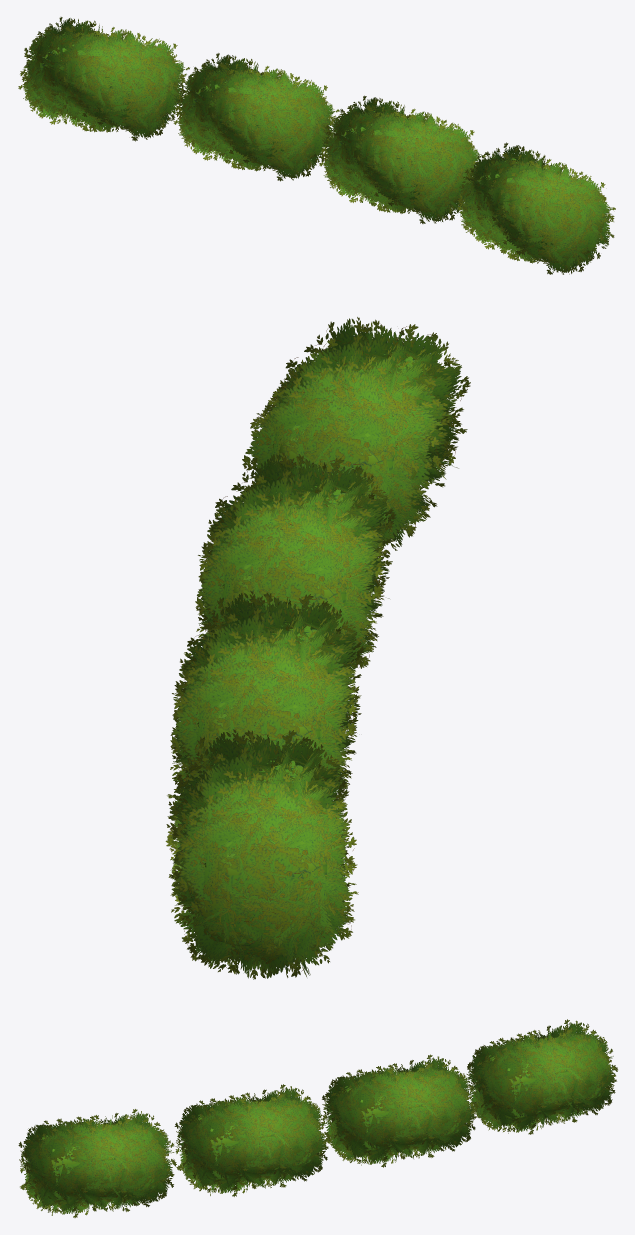
The model's file is SM_Bush06_Splines_20.fbx.
3 renders of one model, top to bottom at view 1: azimuth 30°, elevation 25°; view 2: azimuth 150°, elevation 25°; view 3: azimuth 270°, elevation 25°, orthographic. The views are drawn at different scales.
Parts seen in each view (by area): view 1: SM_Bush06_Splines_20_LOD0; view 2: SM_Bush06_Splines_20_LOD0; view 3: SM_Bush06_Splines_20_LOD0.
Part boxes in pixels (x1,y1,x2,y2): SM_Bush06_Splines_20_LOD0: (18,17,615,274); SM_Bush06_Splines_20_LOD0: (165,317,470,979); SM_Bush06_Splines_20_LOD0: (18,1019,617,1217).
Size of the model in its own units: 535 by 977 by 166.
